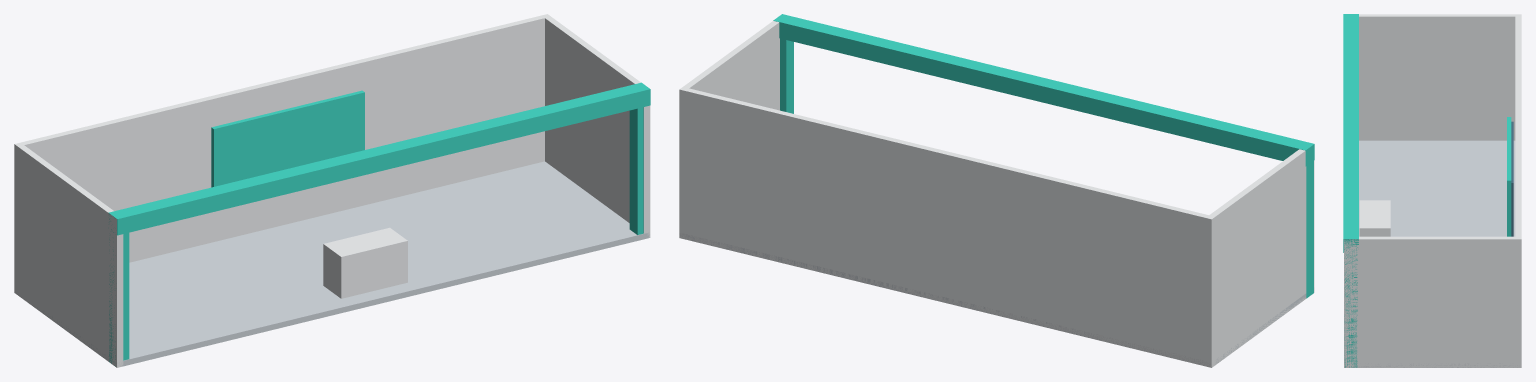
3 views of the same model, side by side, from view 1: azimuth 30°, elevation 25°; view 2: azimuth 150°, elevation 25°; view 3: azimuth 270°, elevation 25° (orthographic). The views are drawn at different scales.
Parts seen in each view (by area): view 1: Exhibition Booth Concept; view 2: Exhibition Booth Concept; view 3: Exhibition Booth Concept.
Boxes of the visible parts, x1=… form: Exhibition Booth Concept: x1=14, y1=14, x2=650, y2=367; Exhibition Booth Concept: x1=679, y1=14, x2=1314, y2=367; Exhibition Booth Concept: x1=1343, y1=14, x2=1521, y2=367.
Bounding box in the file's own units: 12 × 3.2 × 4.02.
